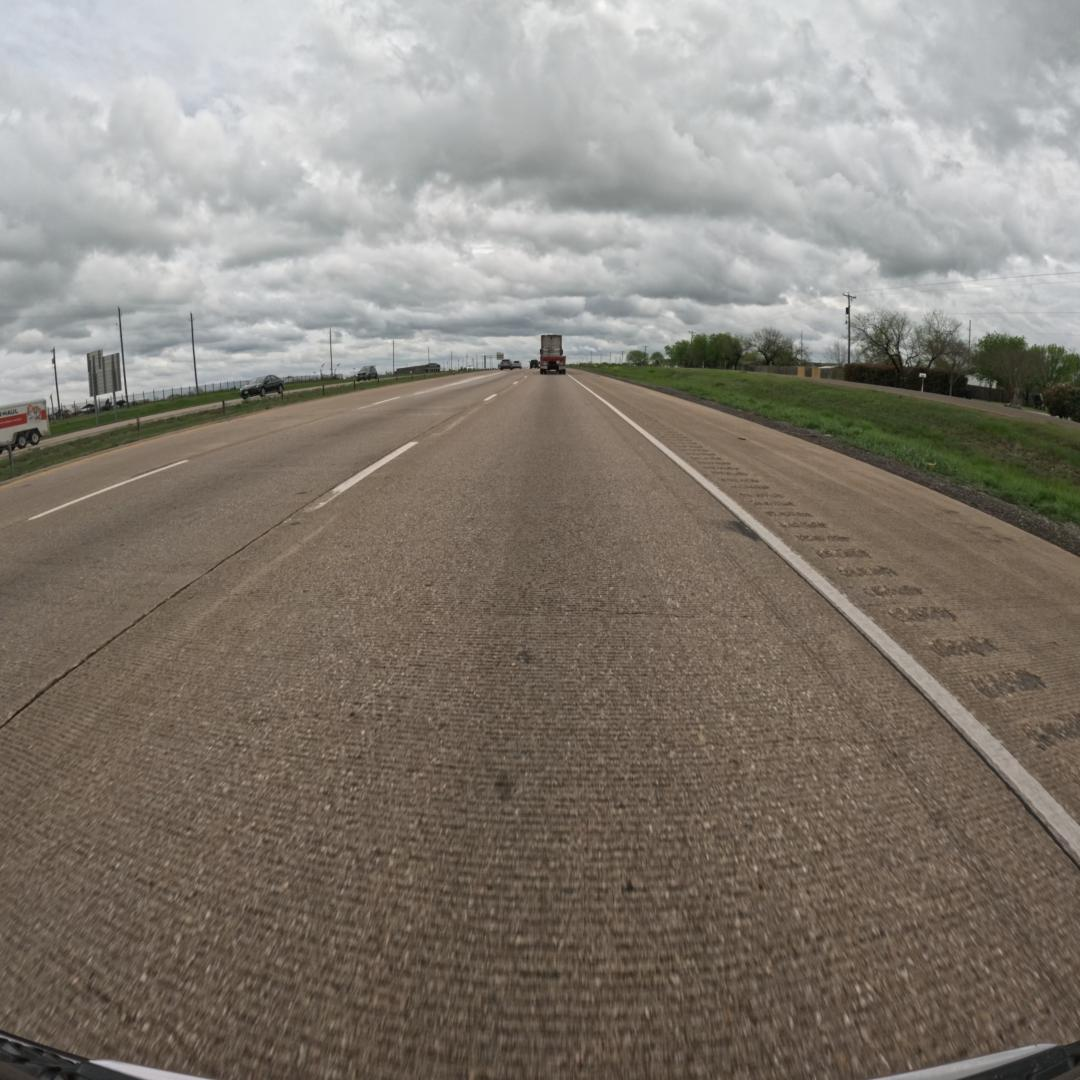lane0: (0, 376, 1080, 1077)
lane1: (0, 373, 521, 726)
